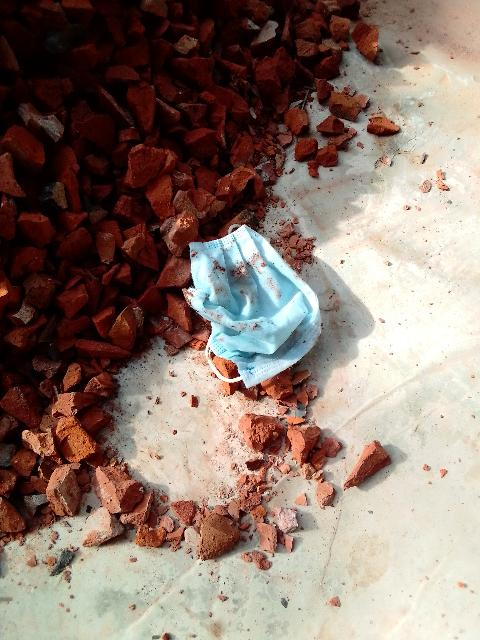mask: (191, 234, 343, 406)
